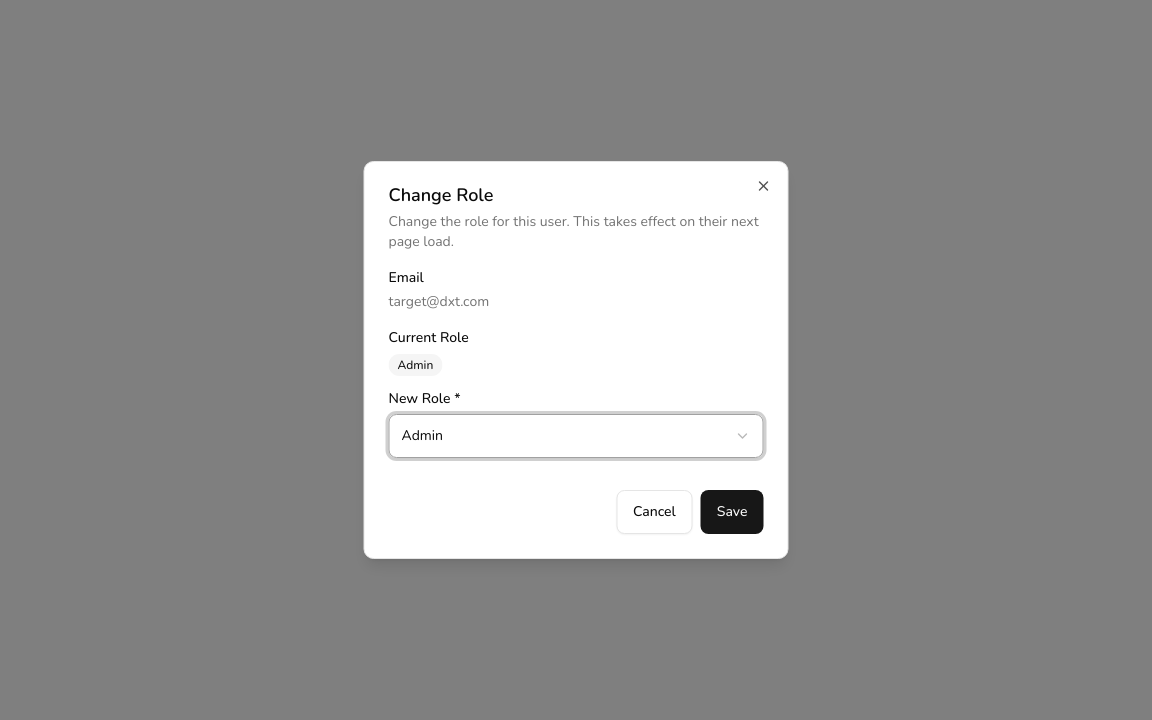
Test: EditRoleDialog › should show all three role options
Press the mouse on the dropdown with test id "role-select": (422, 436) [388,414,764,458]
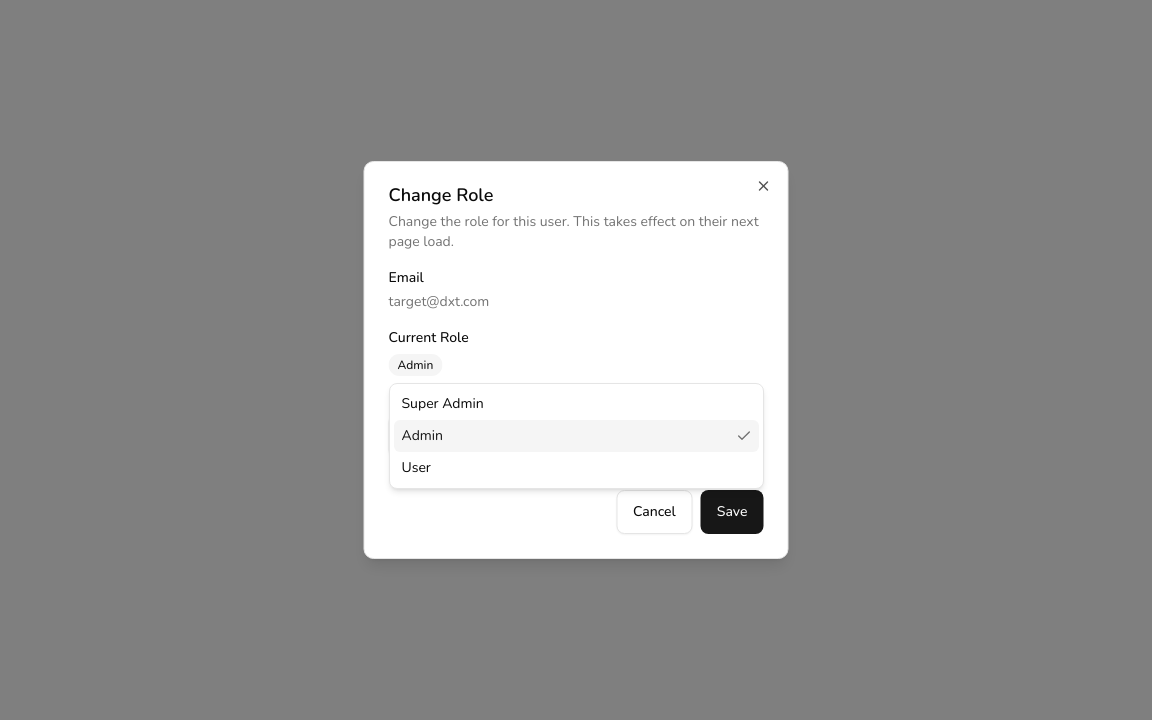
Check: the option "Super Admin" is shown, box [402,394,484,413]
Check: the option "Admin" is shown, box [394,420,758,452]
Check: the option "User" is shown, box [402,458,431,477]
